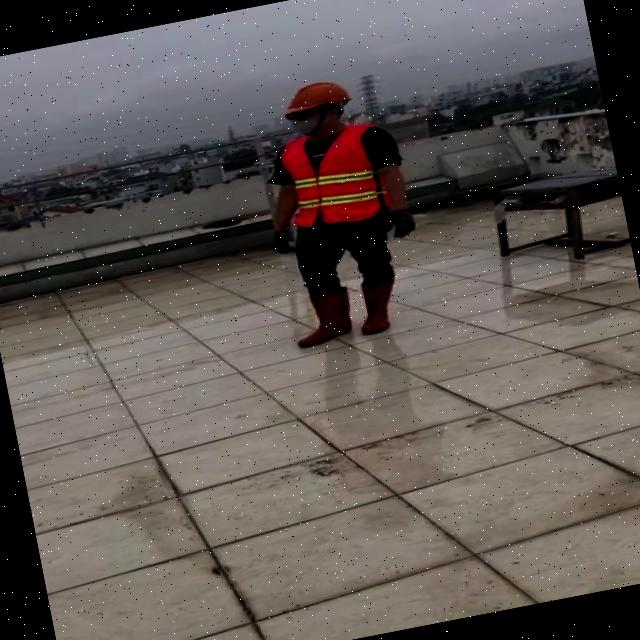boots: (290, 290, 356, 348), (352, 280, 404, 336)
helmet: (282, 75, 352, 116)
vest: (276, 122, 388, 230)
